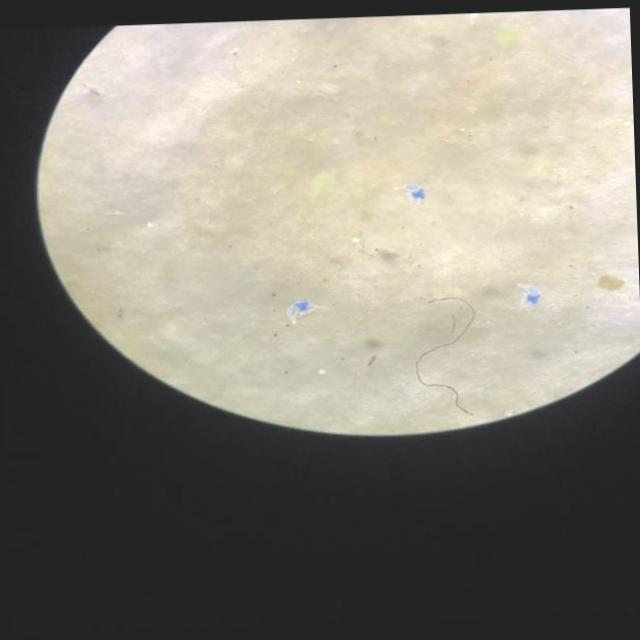fiber: (415, 297, 475, 415)
film: (518, 283, 541, 305), (287, 299, 306, 323), (394, 184, 423, 189)
fragment: (497, 26, 522, 46)
pellet: (353, 237, 359, 243), (148, 223, 153, 227)
